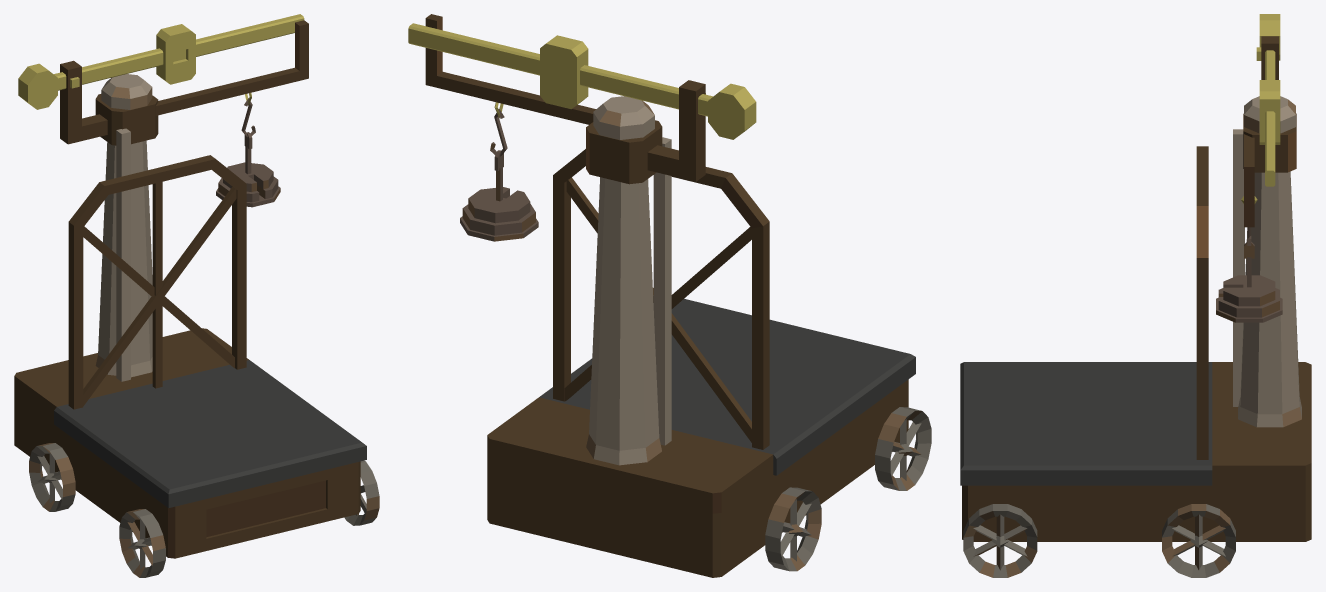
File: scale.glb
3 views of the same model, side by side, from view 1: azimuth 30°, elevation 25°; view 2: azimuth 150°, elevation 25°; view 3: azimuth 270°, elevation 25° (orthographic). The views are drawn at different scales.
Parts seen in each view (by area): view 1: scale-body, scale-brass; view 2: scale-body, scale-brass; view 3: scale-body, scale-brass.
Part boxes in pixels (box(x1,y1,x2,y2)): scale-body: box(14, 20, 379, 577); scale-brass: box(18, 14, 304, 109); scale-body: box(425, 14, 931, 577); scale-brass: box(408, 23, 756, 139); scale-body: box(960, 36, 1311, 577); scale-brass: box(1241, 14, 1280, 203).
Bounding box in the file's own units: 1.24 × 1.71 × 1.19.
